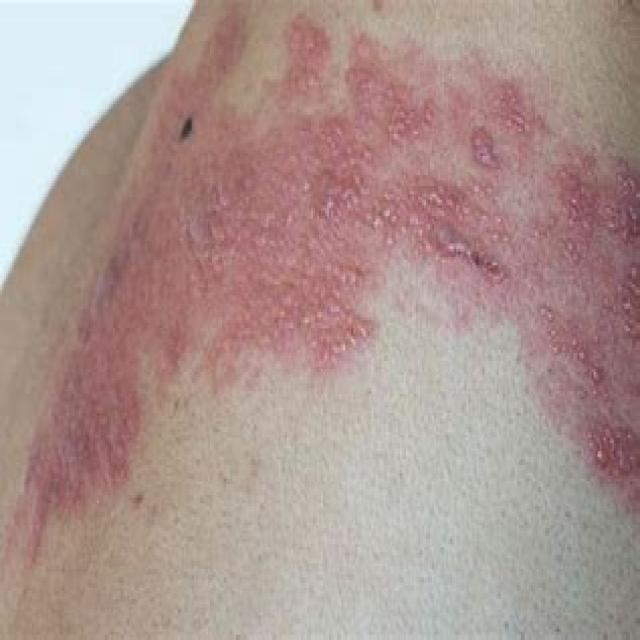Shingles: (14, 15, 640, 570)
